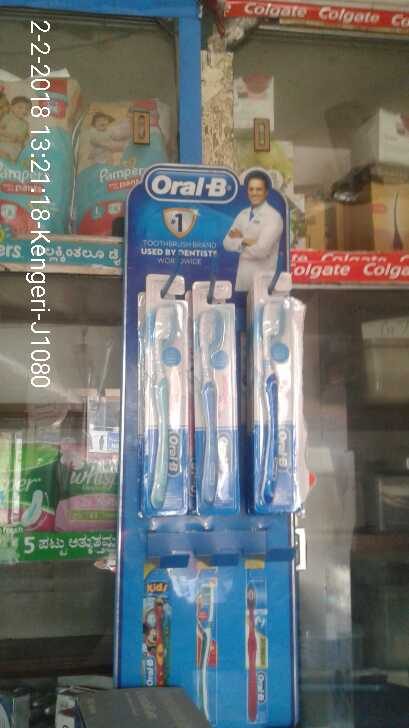pharmacy: (73, 99, 170, 246), (259, 300, 297, 518), (197, 306, 234, 517), (151, 301, 184, 523)
